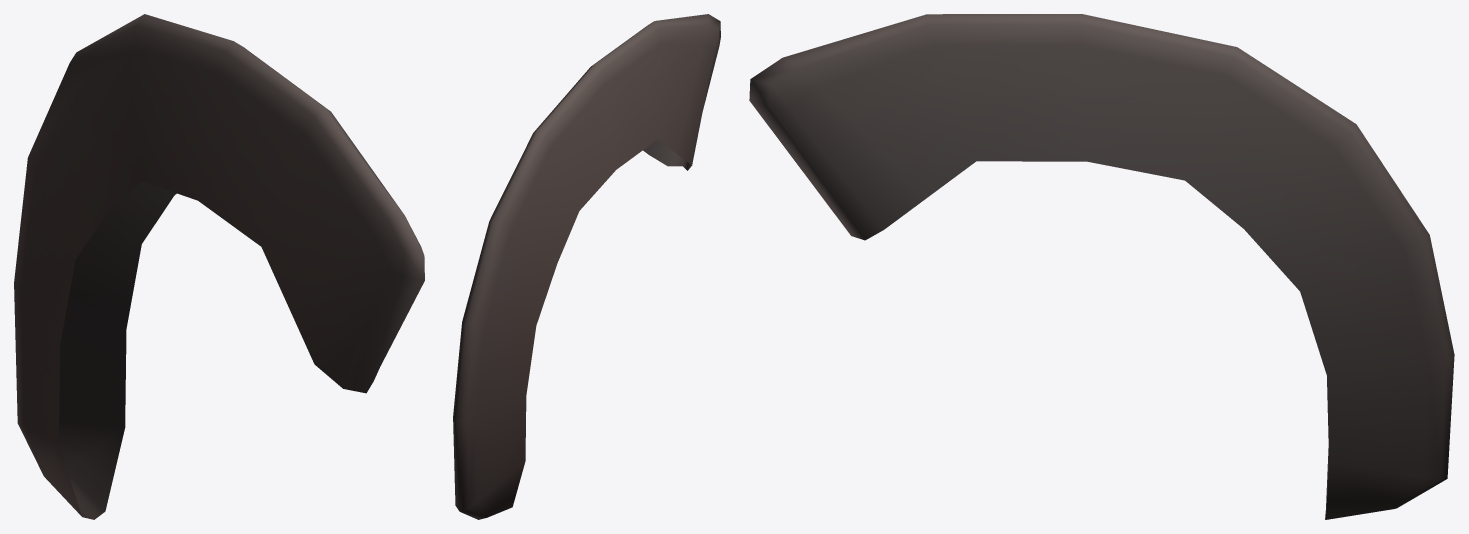
Rendered from Hairstyle_Male_11.glb.
The picture shows the model from 3 angles, left to right: view 1: azimuth 30°, elevation 25°; view 2: azimuth 150°, elevation 25°; view 3: azimuth 270°, elevation 25°; orthographic projection. The views are drawn at different scales.
Parts seen in each view (by area): view 1: Hairstyle_Male_11; view 2: Hairstyle_Male_11; view 3: Hairstyle_Male_11.
Boxes of the visible parts, x1=… form: Hairstyle_Male_11: x1=14, y1=14, x2=424, y2=519; Hairstyle_Male_11: x1=453, y1=14, x2=720, y2=519; Hairstyle_Male_11: x1=749, y1=14, x2=1454, y2=519.
Bounding box in the file's own units: 0.058 × 0.4848 × 0.6127.
1 material, 1 textured.
